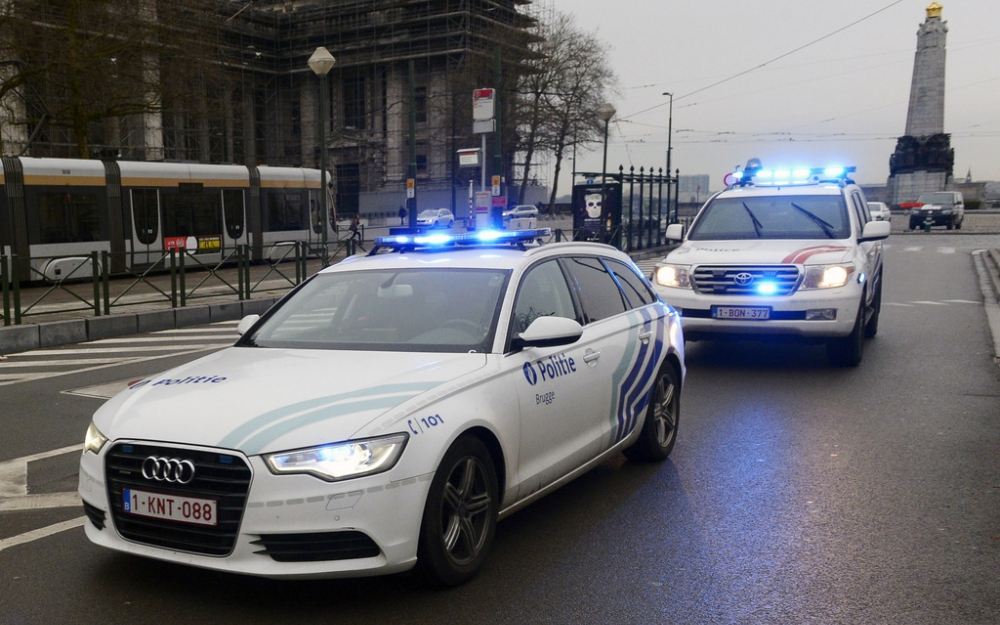licenceplate: (122, 488, 216, 526), (710, 306, 771, 322)
